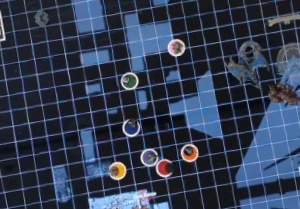blue: (116, 115, 146, 140)
green: (116, 69, 141, 93)
orange: (177, 140, 202, 165)
pink: (164, 34, 188, 60)
red: (153, 155, 176, 178)
violet: (136, 144, 159, 168)
yellow: (105, 156, 130, 183)
